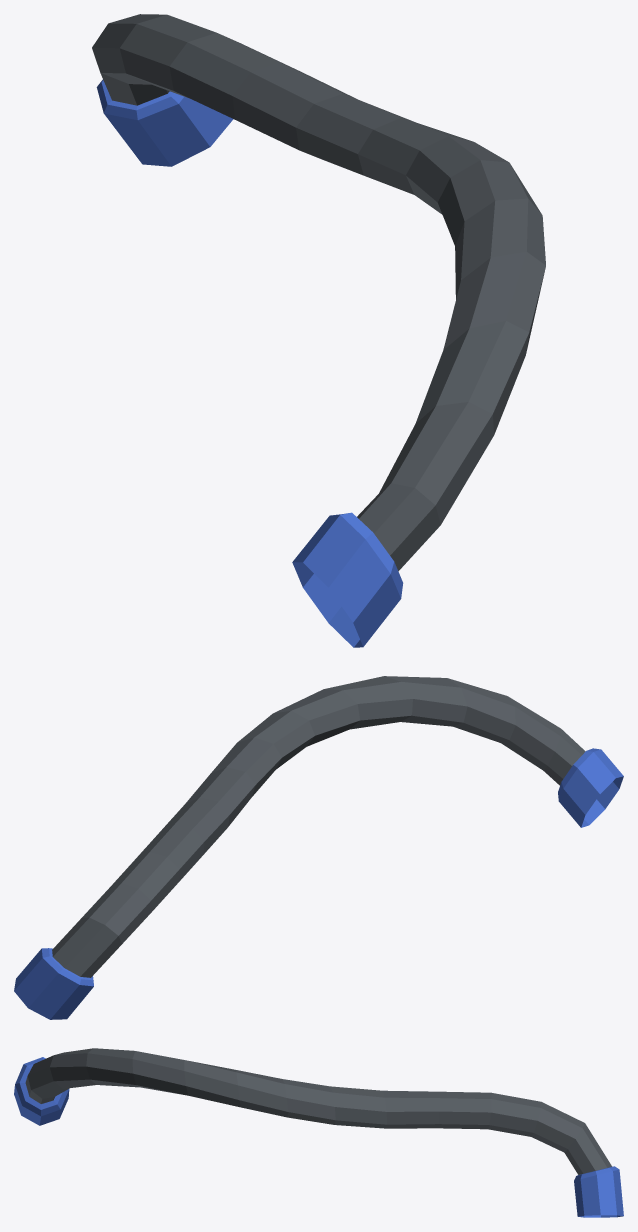
File: Personal_Vehicle_04_Connecting_Tubes_1_Blue.fbx
The picture shows the model from 3 angles, top to bottom: view 1: azimuth 30°, elevation 25°; view 2: azimuth 150°, elevation 25°; view 3: azimuth 270°, elevation 25°; orthographic projection. The views are drawn at different scales.
Visible parts, largest first — view 1: Personal_Vehicle_04_Connecting_Tubes_1_Blue; view 2: Personal_Vehicle_04_Connecting_Tubes_1_Blue; view 3: Personal_Vehicle_04_Connecting_Tubes_1_Blue.
Boxes of the visible parts, x1,y1,x2,y2 form: Personal_Vehicle_04_Connecting_Tubes_1_Blue: [92, 14, 545, 647]; Personal_Vehicle_04_Connecting_Tubes_1_Blue: [14, 676, 623, 1019]; Personal_Vehicle_04_Connecting_Tubes_1_Blue: [14, 1048, 623, 1217].
Bounding box in the file's own units: 34 × 18.93 × 73.61.
1 material, 1 textured.
